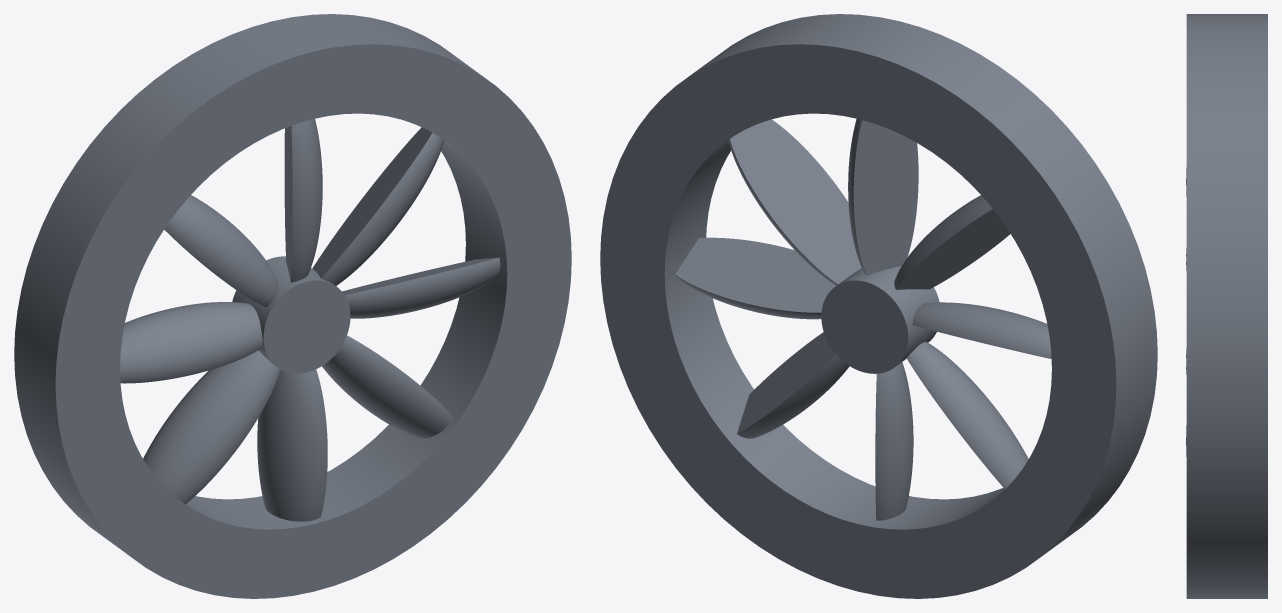
File: turbine.glb
3 renders of one model, left to right at view 1: azimuth 30°, elevation 25°; view 2: azimuth 150°, elevation 25°; view 3: azimuth 270°, elevation 25°, orthographic.
Parts seen in each view (by area): view 1: mesh_id43, mesh_id132, mesh_id96, mesh_id140, mesh_id84, mesh_id120, mesh_id138, mesh_id126, mesh_id114, mesh_id48, mesh_id90, mesh_id66 (+1 smaller); view 2: mesh_id43, mesh_id120, mesh_id114, mesh_id140, mesh_id48, mesh_id132, mesh_id138, mesh_id126, mesh_id84, mesh_id96, mesh_id66, mesh_id90; view 3: mesh_id43.
Boxes of the visible parts, left/top/right/bottom form: mesh_id43: left=14, top=14, right=571, bottom=598; mesh_id132: left=143, top=350, right=280, bottom=504; mesh_id96: left=120, top=302, right=262, bottom=383; mesh_id140: left=232, top=256, right=350, bottom=373; mesh_id84: left=257, top=371, right=327, bottom=521; mesh_id120: left=312, top=127, right=444, bottom=285; mesh_id138: left=322, top=335, right=452, bottom=438; mesh_id126: left=164, top=195, right=278, bottom=306; mesh_id114: left=342, top=257, right=500, bottom=318; mesh_id48: left=284, top=119, right=322, bottom=281; mesh_id90: left=261, top=369, right=327, bottom=519; mesh_id66: left=284, top=119, right=322, bottom=282; mesh_id43: left=600, top=14, right=1157, bottom=598; mesh_id120: left=728, top=119, right=861, bottom=285; mesh_id114: left=675, top=237, right=835, bottom=319; mesh_id140: left=821, top=266, right=939, bottom=373; mesh_id48: left=848, top=119, right=918, bottom=275; mesh_id132: left=906, top=341, right=1028, bottom=489; mesh_id138: left=737, top=332, right=849, bottom=438; mesh_id126: left=894, top=195, right=1010, bottom=289; mesh_id84: left=875, top=362, right=913, bottom=520; mesh_id96: left=912, top=302, right=1051, bottom=358; mesh_id66: left=848, top=119, right=917, bottom=275; mesh_id90: left=875, top=362, right=913, bottom=520; mesh_id43: left=1186, top=14, right=1267, bottom=598.
Bounding box in the file's own units: 0.594 × 0.594 × 0.0829.
14 materials, 14 textured.
